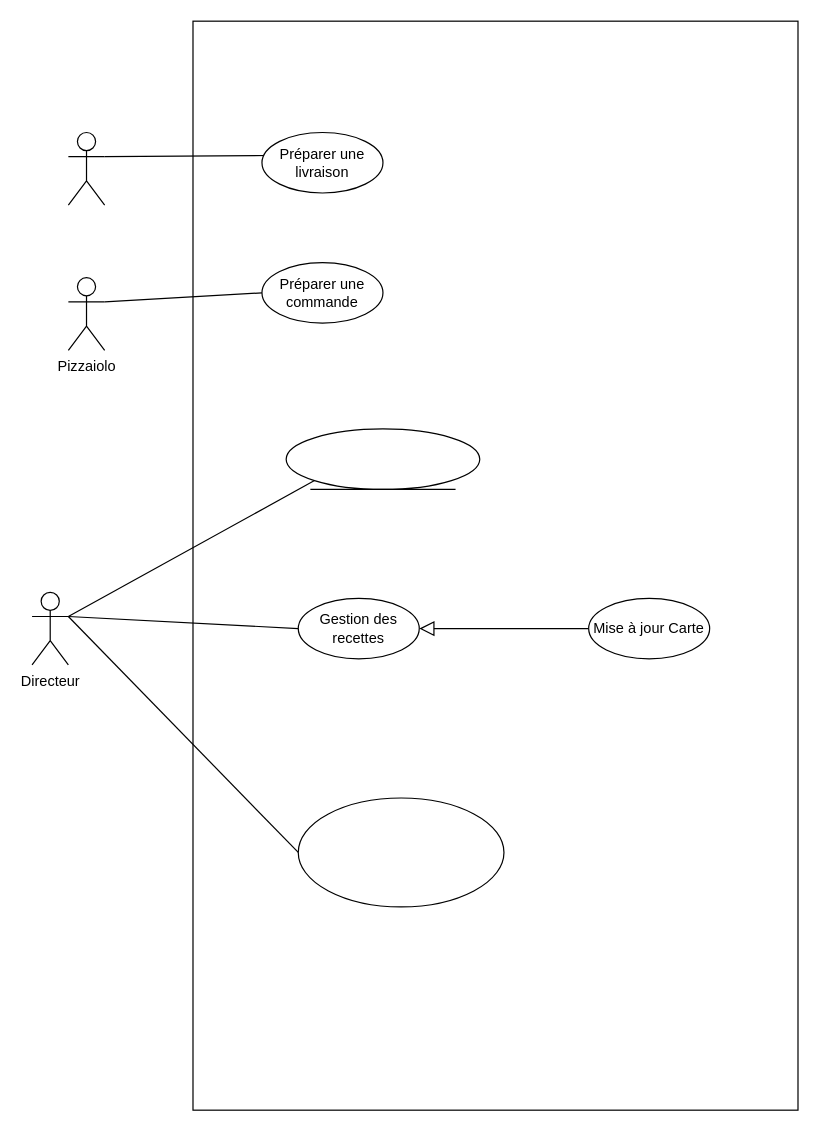
Some shapes in this 819 by 1131 pixel diagram are drawn without their labels. The shapes that lost their labels are listed below. From the top down, each one's centre as x and y in pixels, then its label:
[86,168]: Livreur
[382,458]: Suivre les stocks en temps réel
[400,852]: Consulter l'historique des commandes et les statistiques
